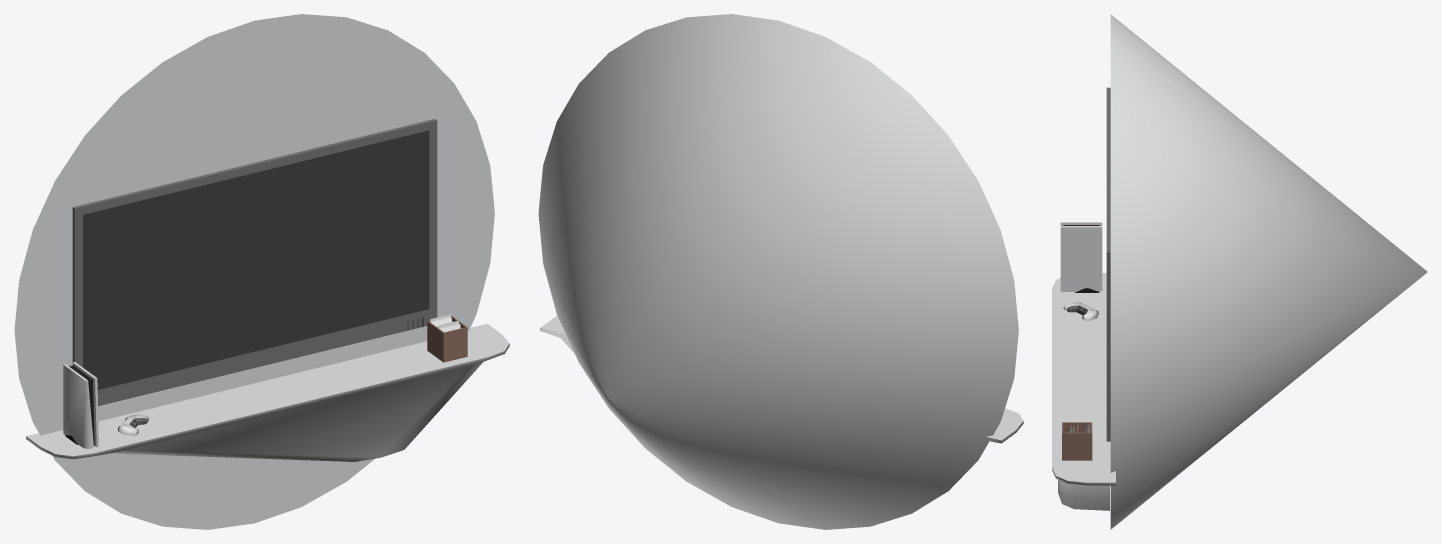
File: M_TVgui01.FBX
The picture shows the model from 3 angles, left to right: view 1: azimuth 30°, elevation 25°; view 2: azimuth 150°, elevation 25°; view 3: azimuth 270°, elevation 25°; orthographic projection. The views are drawn at different scales.
Visible parts, largest first — view 1: M_TVgui01_01, M_TVgui01_02, M_TVgui01_03, M_TVgui01_04, M_TVgui01_05, M_TVgui01_07; view 2: M_TVgui01_01, M_TVgui01_03; view 3: M_TVgui01_01, M_TVgui01_03, M_TVgui01_05, M_TVgui01_02, M_TVgui01_07.
Boxes of the visible parts, x1=… form: M_TVgui01_01: x1=14, y1=14, x2=494, y2=529; M_TVgui01_02: x1=72, y1=119, x2=437, y2=405; M_TVgui01_03: x1=26, y1=323, x2=509, y2=461; M_TVgui01_04: x1=36, y1=37, x2=473, y2=506; M_TVgui01_05: x1=63, y1=362, x2=148, y2=448; M_TVgui01_07: x1=427, y1=315, x2=467, y2=362; M_TVgui01_01: x1=538, y1=14, x2=1018, y2=529; M_TVgui01_03: x1=540, y1=316, x2=1023, y2=443; M_TVgui01_01: x1=1110, y1=14, x2=1427, y2=529; M_TVgui01_03: x1=1052, y1=273, x2=1115, y2=510; M_TVgui01_05: x1=1060, y1=222, x2=1102, y2=321; M_TVgui01_02: x1=1106, y1=87, x2=1110, y2=441; M_TVgui01_07: x1=1062, y1=422, x2=1092, y2=460.
Size of the model in its own units: 5.23 by 5.23 by 3.81.
